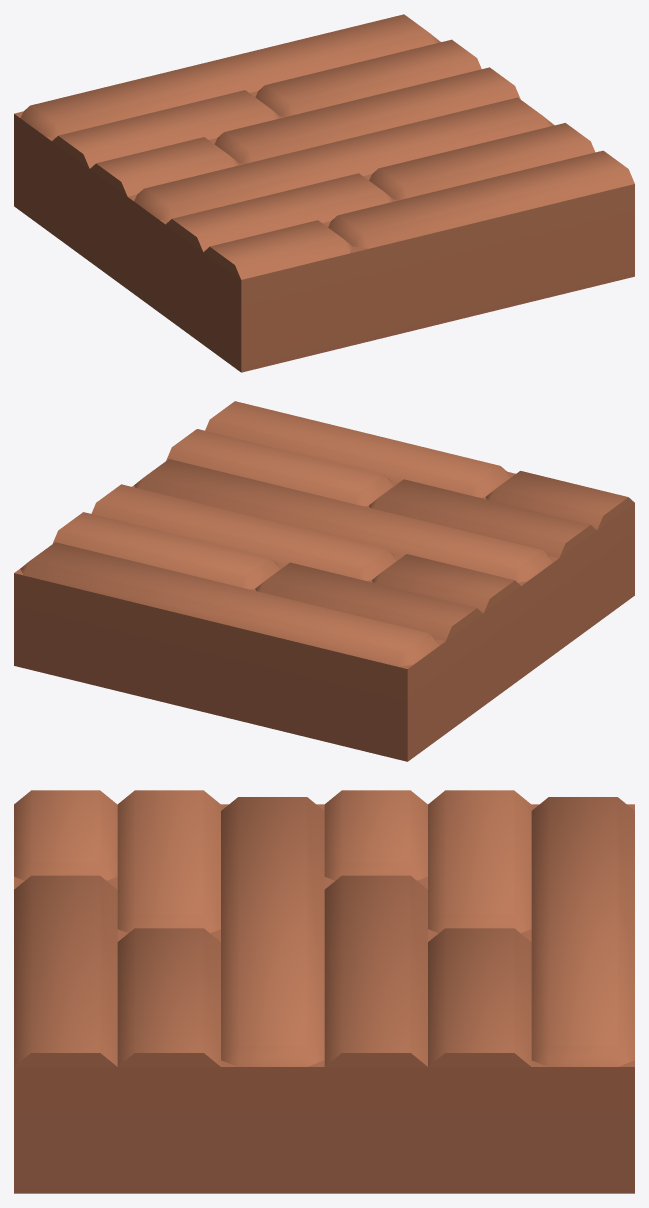
The model's file is floor-wood.glb.
3 renders of one model, top to bottom at view 1: azimuth 30°, elevation 25°; view 2: azimuth 150°, elevation 25°; view 3: azimuth 270°, elevation 25°, orthographic. The views are drawn at different scales.
Visible parts, largest first — view 1: floor_wood; view 2: floor_wood; view 3: floor_wood.
Boxes of the visible parts, x1,y1,x2,y2 form: floor_wood: [14, 14, 634, 372]; floor_wood: [14, 401, 634, 761]; floor_wood: [14, 790, 634, 1193].
Size of the model in its own units: 2 by 0.5 by 2.
Materials: 1 (1 with a texture image).
